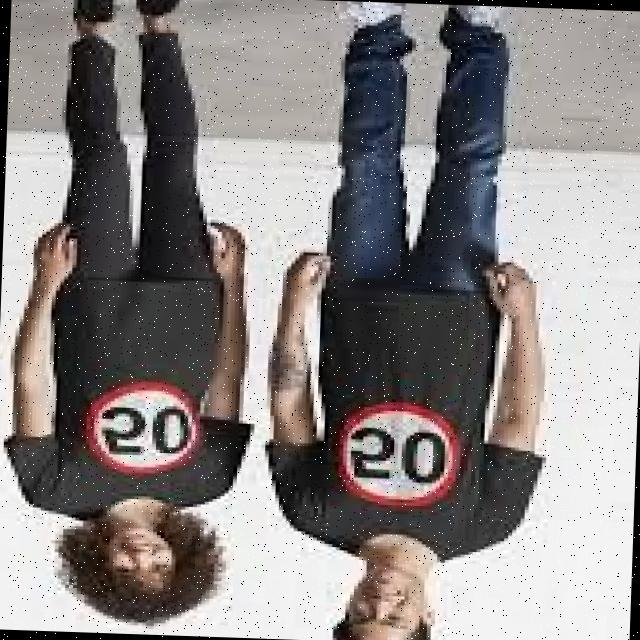speed_limit_50: (331, 396, 467, 514), (69, 374, 204, 477)
